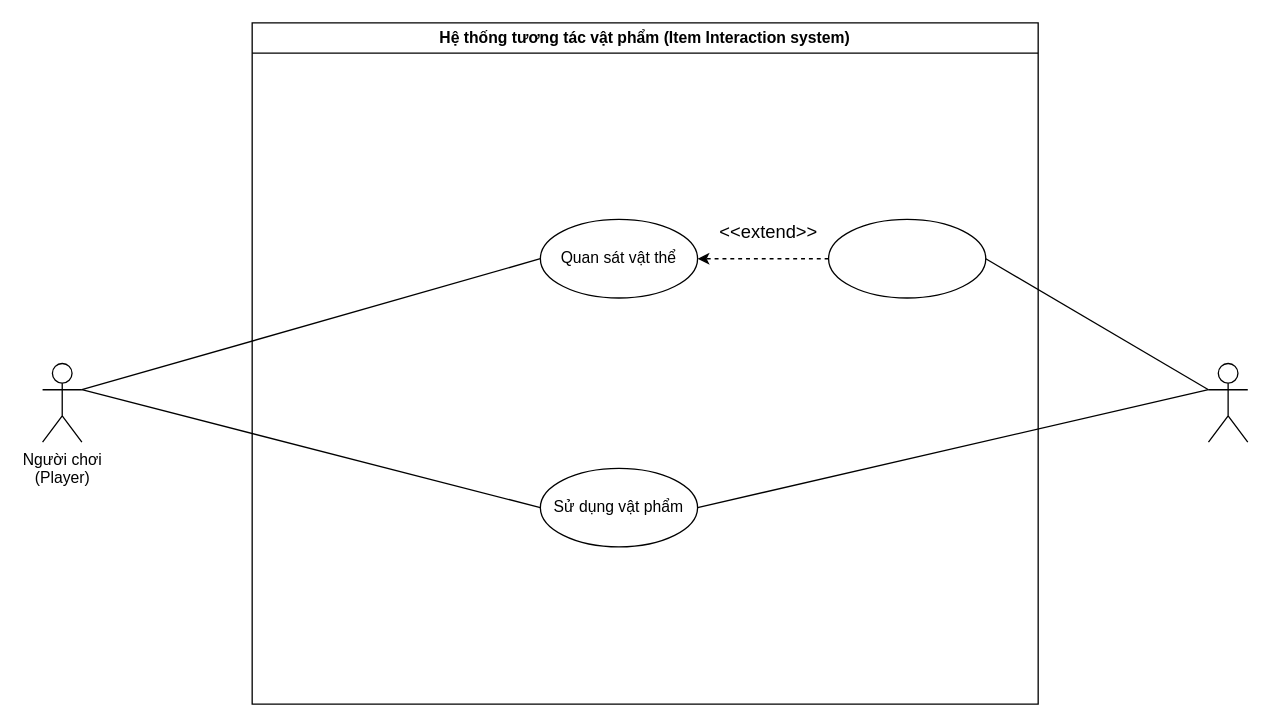
This 1282x727 diagram has some shape labels left out. The shapes that lost their labels are listed below. From the top down, each one's centre as x and y in pixels, then its label:
At (x=906, y=258): "Mở khóa vật thể".
At (x=1227, y=402): "Hệ thống (System)".
